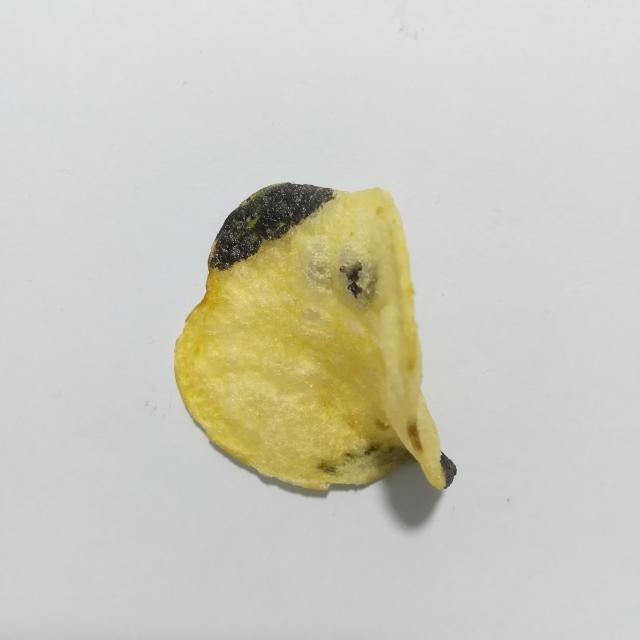chip: (174, 183, 455, 490)
damaged: (208, 182, 335, 270), (440, 451, 457, 489)
semi-damaged: (333, 247, 376, 305), (344, 443, 415, 469), (303, 235, 331, 289), (317, 461, 337, 474)
